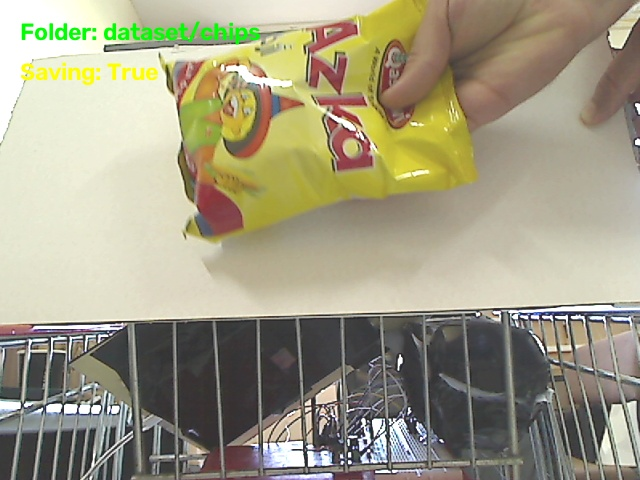chips: (161, 0, 476, 240)
